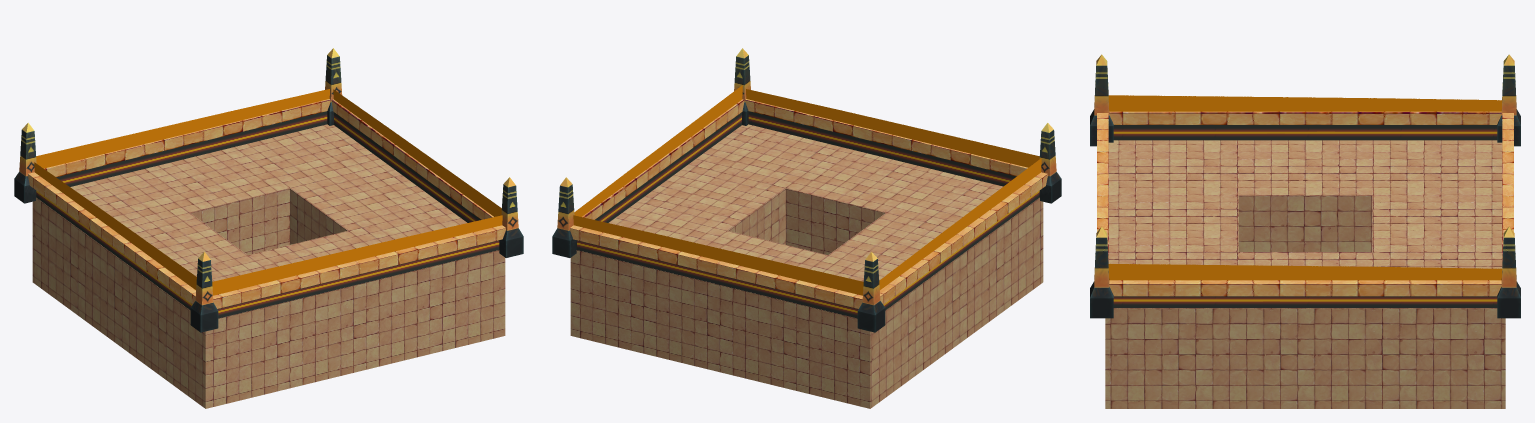
The model's file is Duel_Stage 41.fbx.
3 views of the same model, side by side, from view 1: azimuth 30°, elevation 25°; view 2: azimuth 150°, elevation 25°; view 3: azimuth 270°, elevation 25° (orthographic). The views are drawn at different scales.
Visible parts, largest first — view 1: CR_Platform_Cube__2_, CR_Platform_Cube.005, CR_Platform_Cube.002, Plane.114, Cube.096, Plane.113; view 2: CR_Platform_Cube__2_, CR_Platform_Cube.005, CR_Platform_Cube.002, Plane.114, Cube.096, Plane.113; view 3: CR_Platform_Cube__2_, CR_Platform_Cube.002, Plane.113, Cube.096, CR_Platform_Cube.005.
Boxes of the visible parts, left/top/right/bottom form: CR_Platform_Cube__2_: left=32, top=124, right=505, bottom=408; CR_Platform_Cube.005: left=44, top=99, right=505, bottom=318; CR_Platform_Cube.002: left=28, top=99, right=493, bottom=310; Plane.114: left=36, top=89, right=502, bottom=295; Cube.096: left=14, top=48, right=523, bottom=332; Plane.113: left=34, top=89, right=501, bottom=289; CR_Platform_Cube__2_: left=570, top=124, right=1043, bottom=408; CR_Platform_Cube.005: left=570, top=99, right=1027, bottom=318; CR_Platform_Cube.002: left=582, top=99, right=1047, bottom=310; Plane.114: left=573, top=89, right=1039, bottom=295; Cube.096: left=552, top=48, right=1061, bottom=332; Plane.113: left=574, top=85, right=1041, bottom=290; CR_Platform_Cube__2_: left=1105, top=140, right=1505, bottom=408; CR_Platform_Cube.002: left=1109, top=111, right=1501, bottom=307; Plane.113: left=1108, top=95, right=1502, bottom=280; Cube.096: left=1090, top=54, right=1520, bottom=318; CR_Platform_Cube.005: left=1097, top=113, right=1513, bottom=261.
Size of what is drawn, in the model's own units: 3878 by 2229 by 3878.
